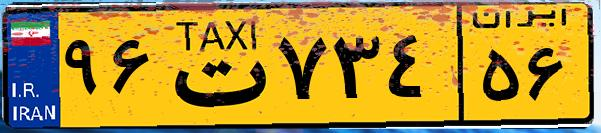3: (330, 28, 385, 110)
4: (385, 28, 445, 110)
5: (475, 38, 525, 113)
6: (525, 38, 570, 115), (110, 28, 158, 98)
7: (270, 28, 330, 110)
9: (57, 26, 110, 100)
ت: (158, 12, 270, 120)
